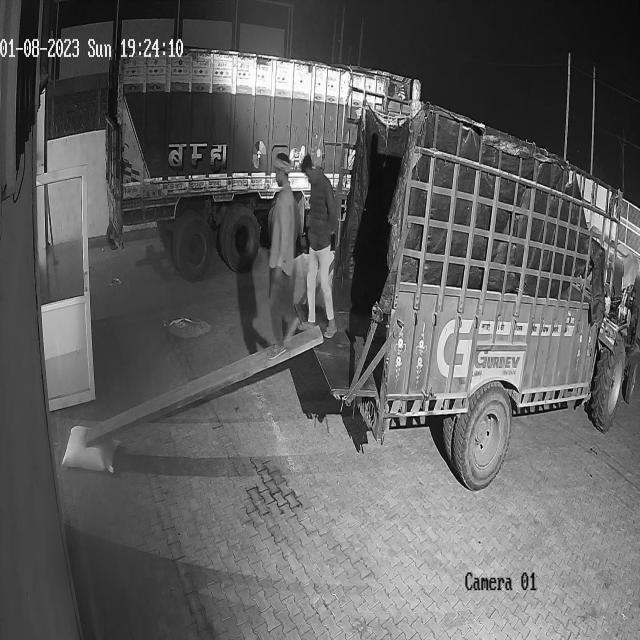sack: (62, 424, 119, 472)
